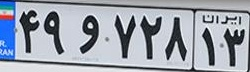character: (110, 11, 139, 61), (74, 9, 104, 57), (164, 15, 191, 65), (138, 12, 164, 63), (41, 7, 67, 57), (17, 6, 42, 57), (223, 26, 247, 69), (200, 25, 220, 68)
